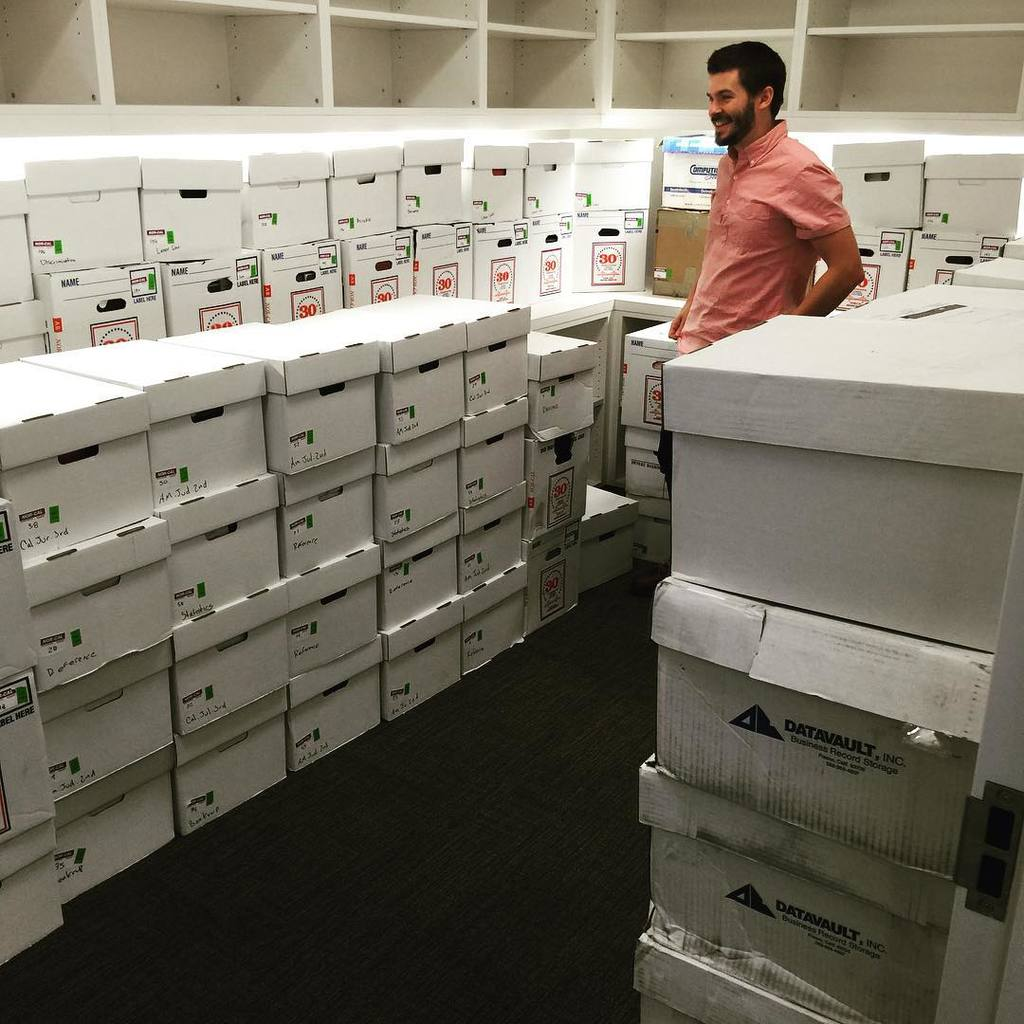person: (664, 38, 866, 355)
